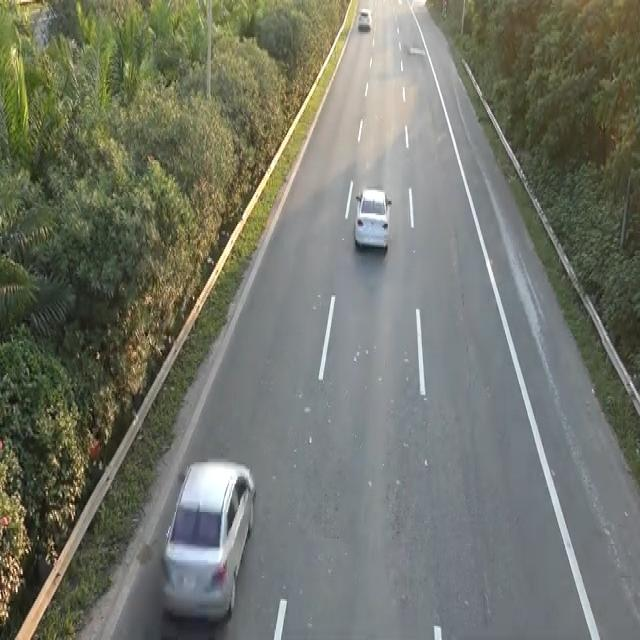bus: (159, 455, 257, 622), (352, 183, 392, 253)
